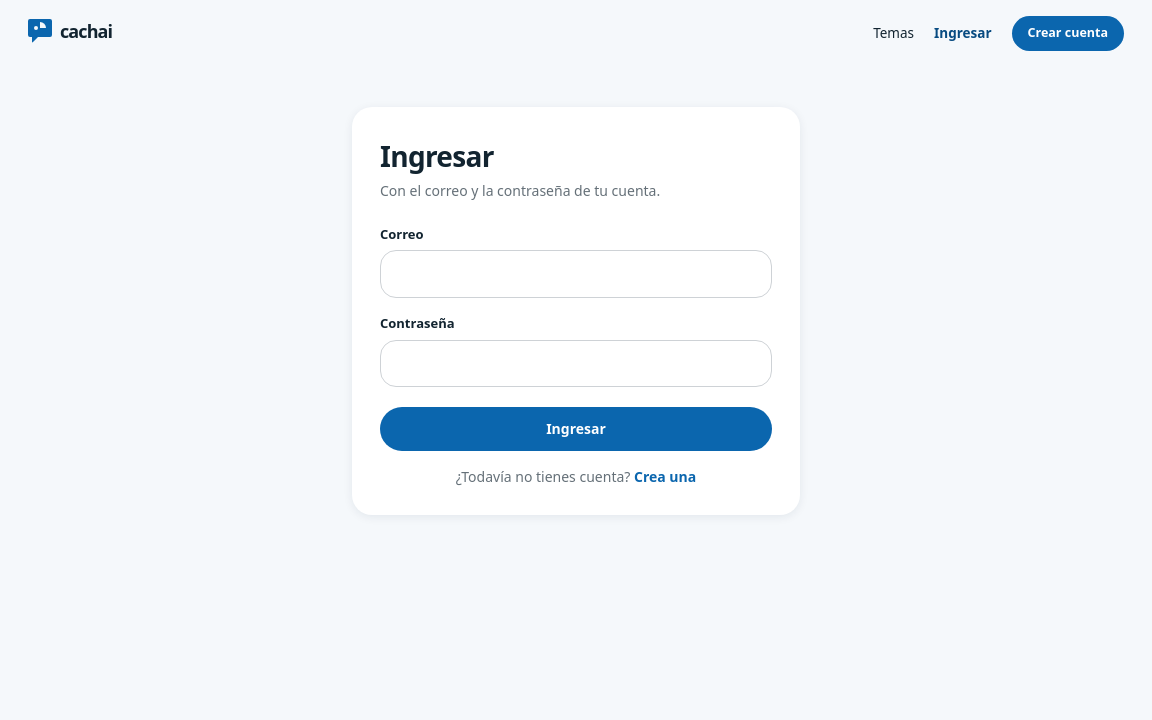
Test case: sesion y rutas privadas › una contraseña incorrecta muestra el error y no guarda nada
In the field labelled "Correo": (576, 274) top-left (380, 250), bottom-right (772, 298), type "ana@duoc.cl"
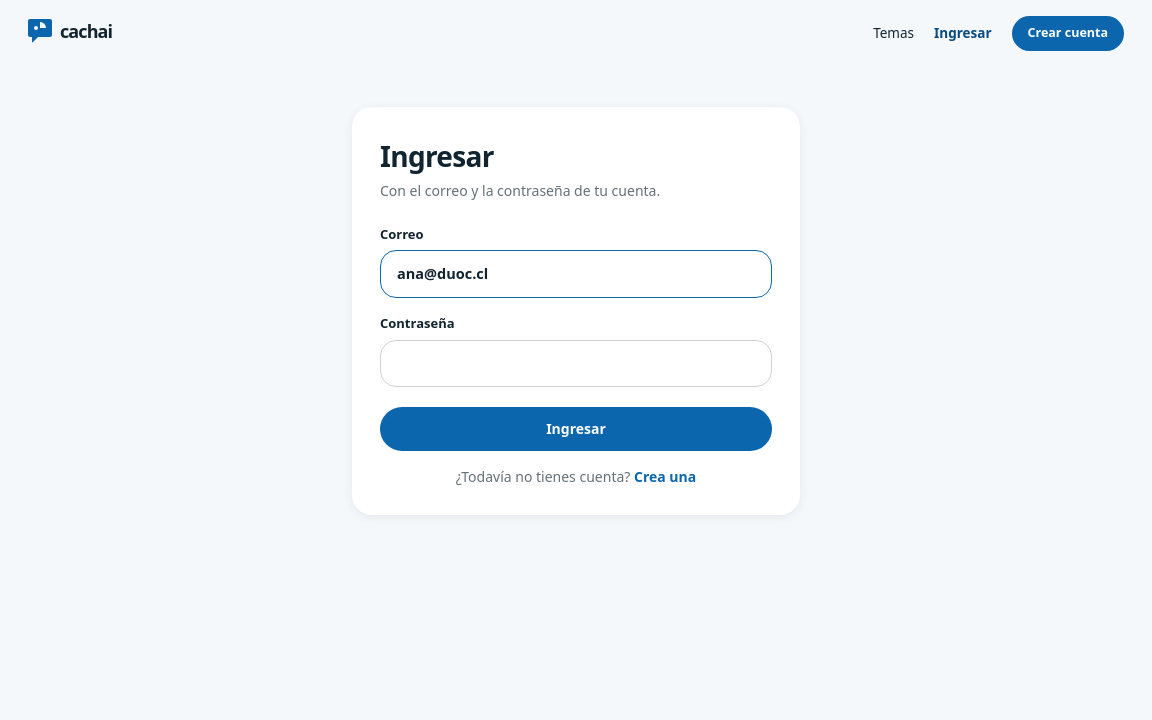
In the password field labelled "Contraseña": (576, 363) top-left (380, 340), bottom-right (772, 387), type "equivocada1"
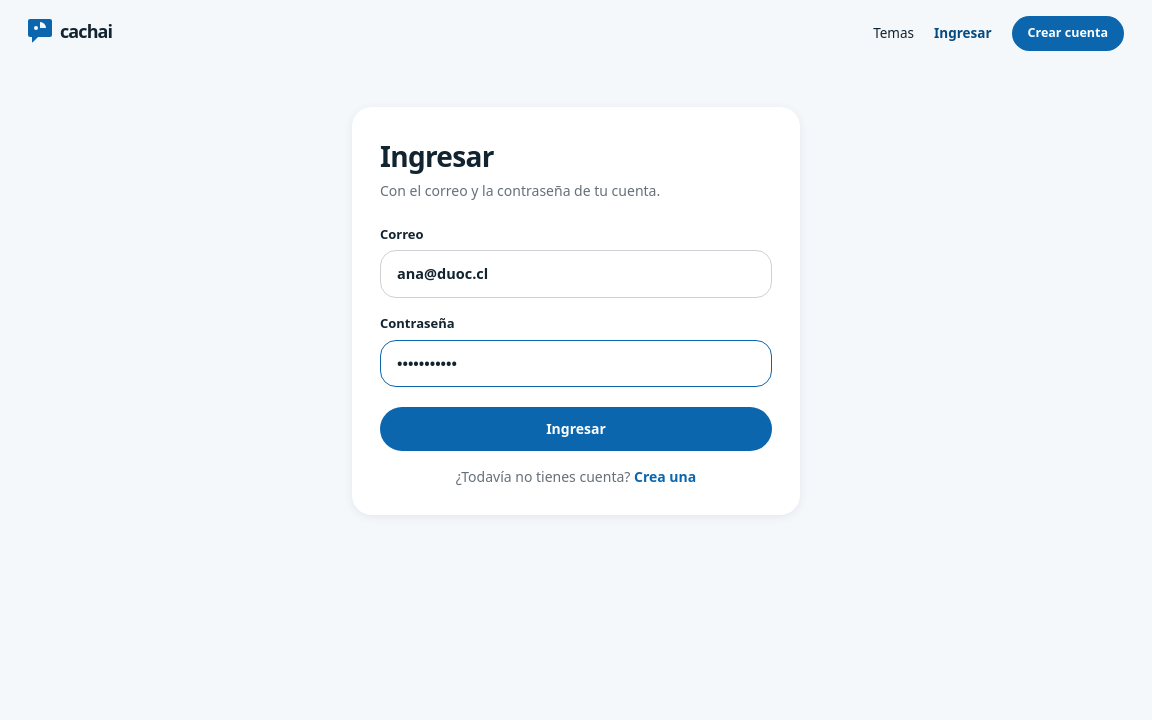
Click the button "Ingresar": click(576, 429) top-left (380, 407), bottom-right (772, 451)
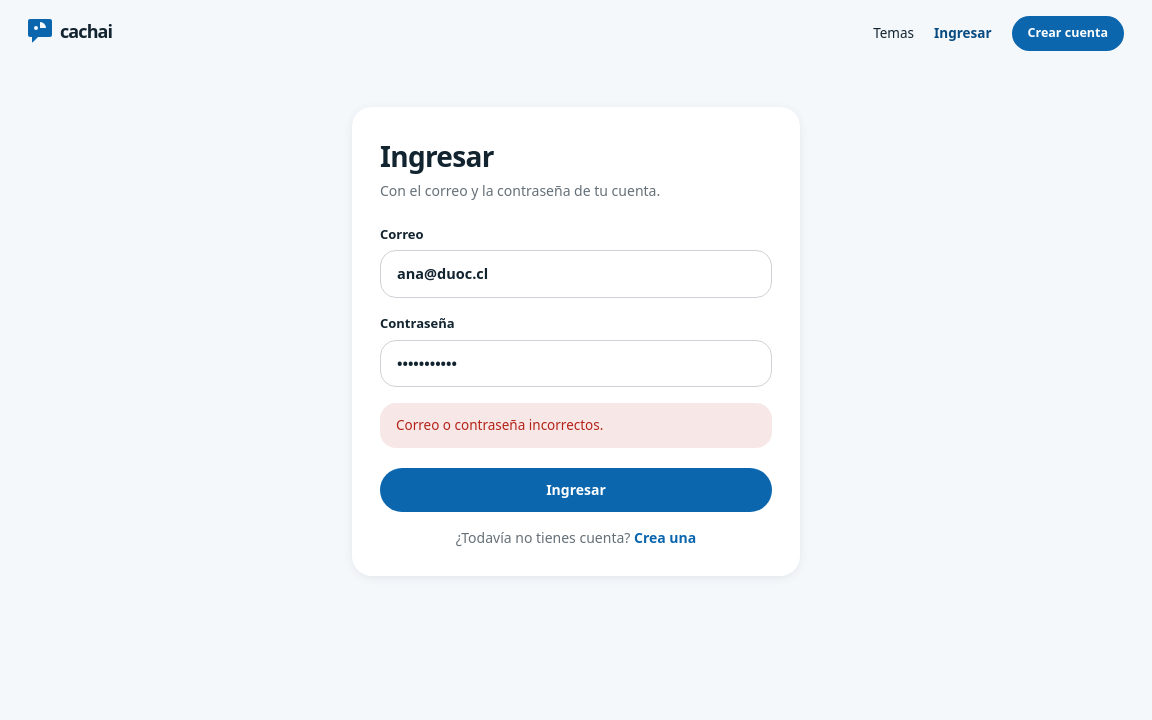
Result: the message reads "Correo o contraseña incorrectos." at top-left (396, 416), bottom-right (603, 434)
